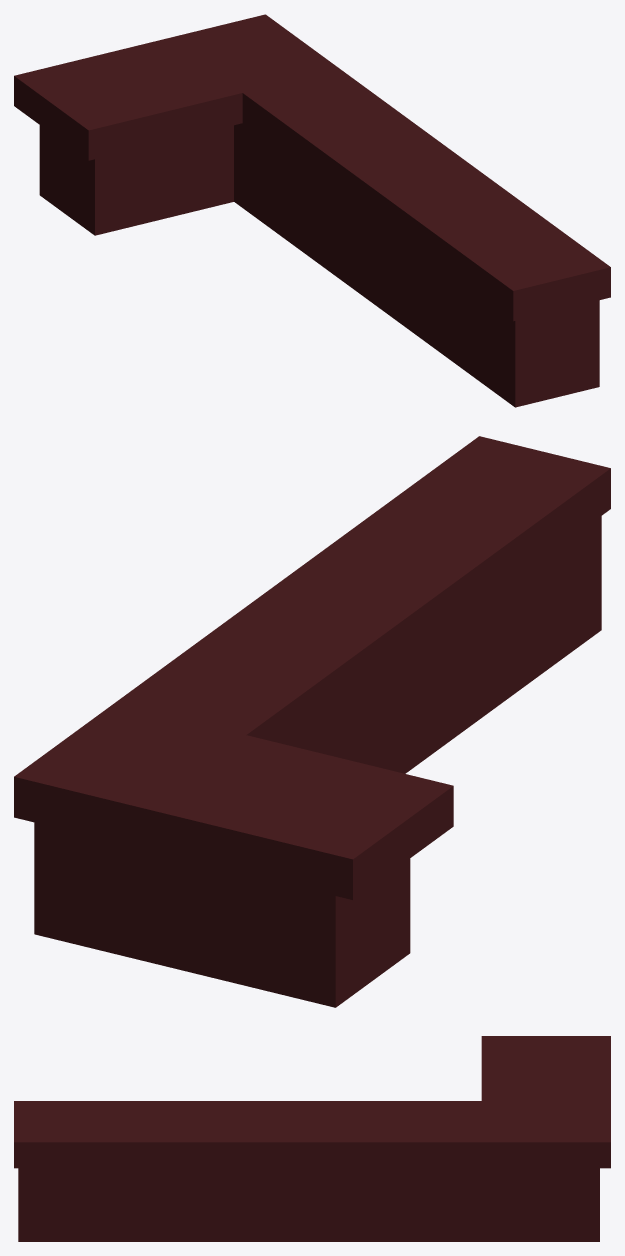
The model's file is Encimera.fbx.
The picture shows the model from 3 angles, top to bottom: view 1: azimuth 30°, elevation 25°; view 2: azimuth 150°, elevation 25°; view 3: azimuth 270°, elevation 25°; orthographic projection. The views are drawn at different scales.
Parts seen in each view (by area): view 1: Cube.001, Cube; view 2: Cube.001, Cube; view 3: Cube.001, Cube.
Boxes of the visible parts, <box> form: Cube.001: <box>14,14,610,321</box>; Cube: <box>39,123,599,407</box>; Cube.001: <box>14,436,610,899</box>; Cube: <box>34,516,601,1007</box>; Cube.001: <box>14,1036,610,1168</box>; Cube: <box>18,1168,599,1241</box>.
Size of the model in its own units: 1486 by 674 by 3532.
